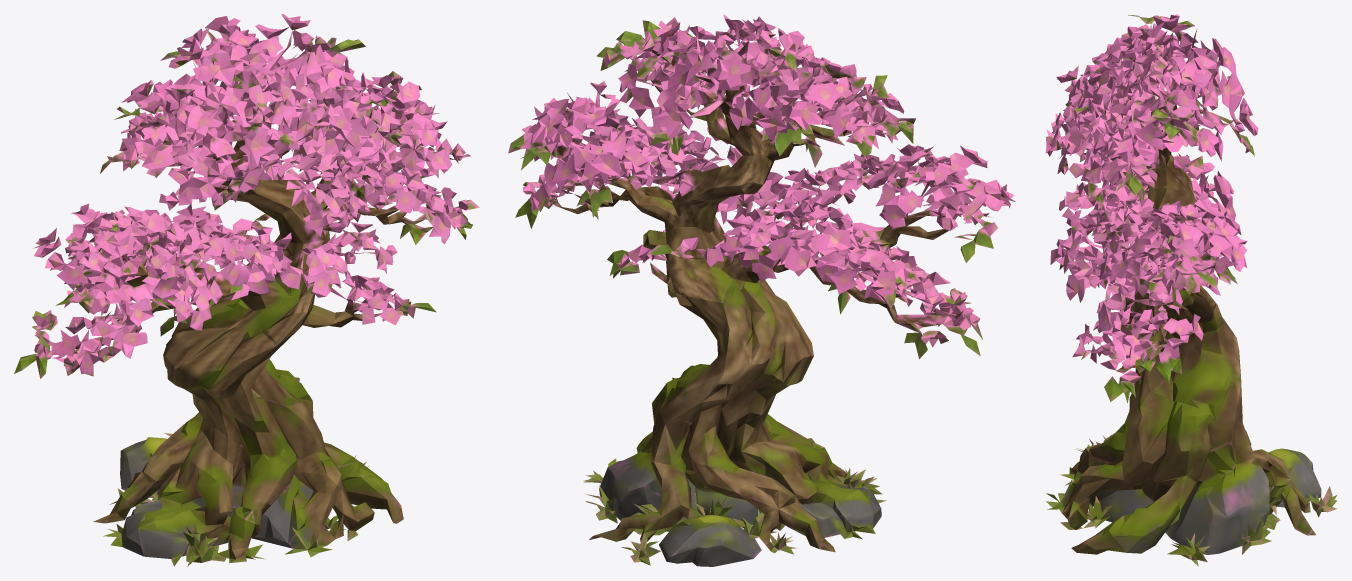
Rendered from tree.glb.
3 renders of one model, left to right at view 1: azimuth 30°, elevation 25°; view 2: azimuth 150°, elevation 25°; view 3: azimuth 270°, elevation 25°, orthographic. The views are drawn at different scales.
Visible parts, largest first — view 1: output_unwrapped; view 2: output_unwrapped; view 3: output_unwrapped.
Boxes of the visible parts, x1,y1,x2,y2 form: output_unwrapped: (14, 14, 479, 566); output_unwrapped: (508, 14, 1015, 566); output_unwrapped: (1045, 14, 1337, 566).
Bounding box in the file's own units: 1.8 × 1.8 × 1.02.
1 material, 1 textured.
